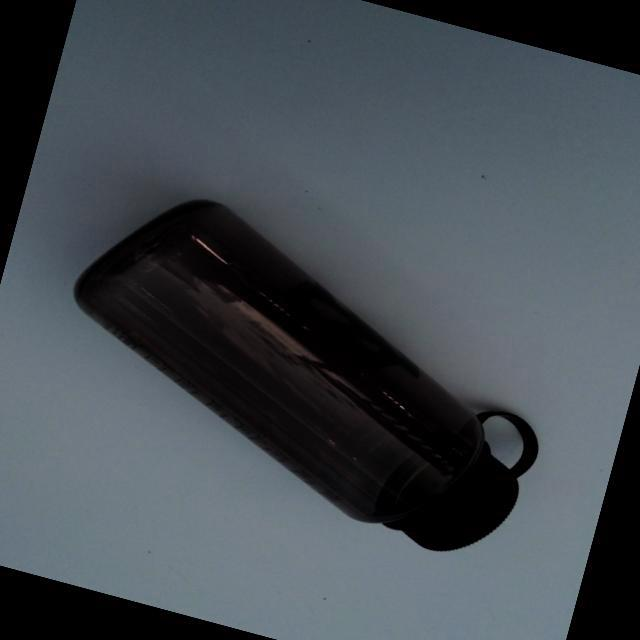plastic: (19, 141, 601, 600)
